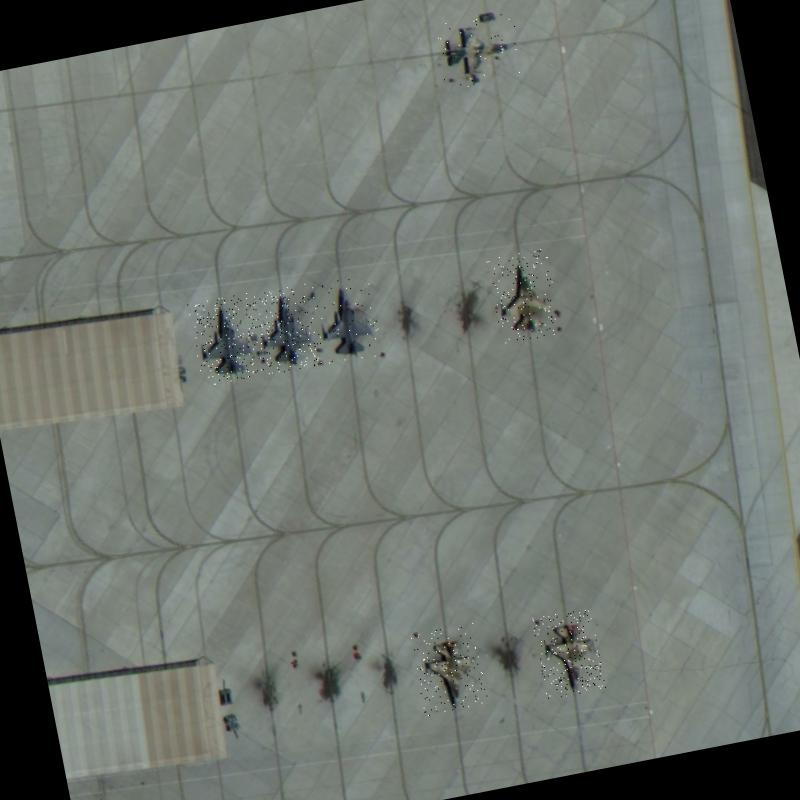A5: (432, 9, 528, 91), (409, 622, 489, 717), (186, 292, 264, 386), (486, 248, 562, 344), (308, 273, 384, 368), (531, 606, 606, 700), (250, 283, 322, 375)
